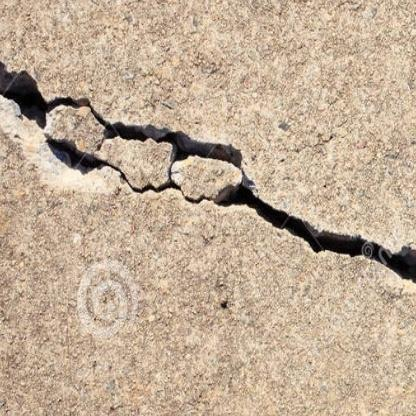Cracks: (0, 57, 416, 295)
